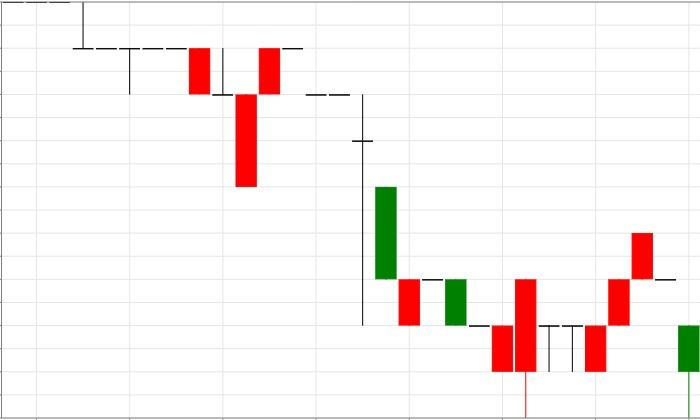three_white_soldiers_rise: (281, 47, 654, 419)
